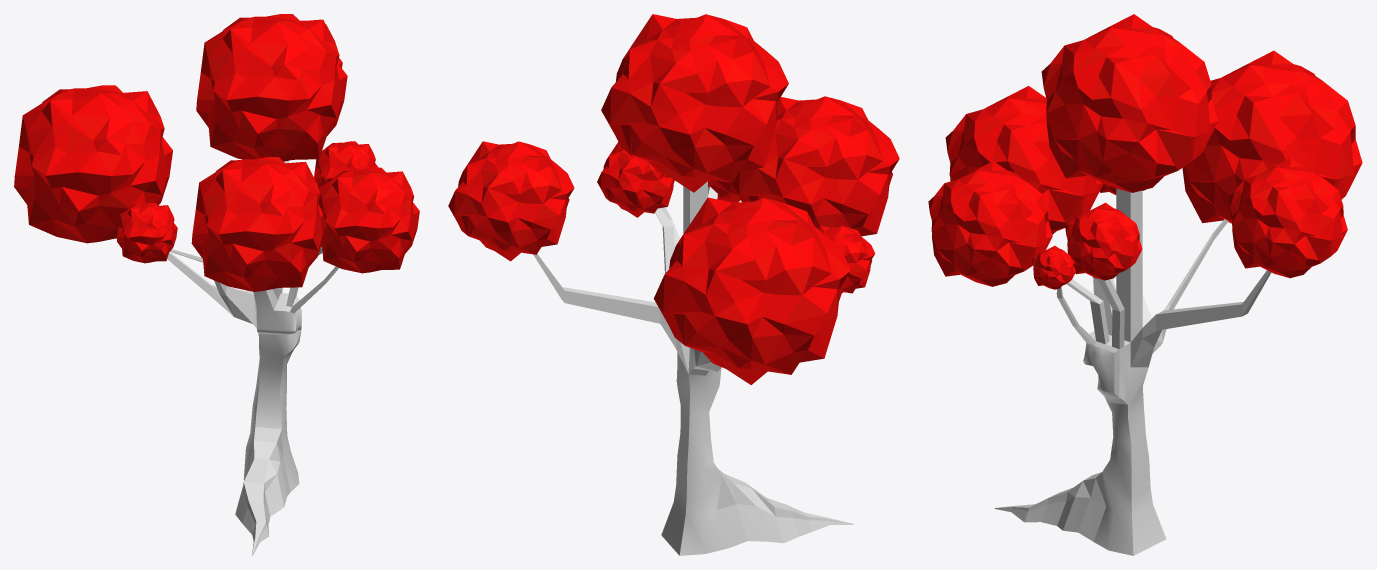
The model's file is Tree_Model_3.FBX.
3 renders of one model, left to right at view 1: azimuth 30°, elevation 25°; view 2: azimuth 150°, elevation 25°; view 3: azimuth 270°, elevation 25°, orthographic. The views are drawn at different scales.
Visible parts, largest first — view 1: GeoSphere094, GeoSphere088, GeoSphere089, Cylinder002, GeoSphere092, GeoSphere095, GeoSphere090; view 2: GeoSphere094, GeoSphere088, Cylinder002, GeoSphere089, GeoSphere093, GeoSphere090, GeoSphere095; view 3: GeoSphere088, Cylinder002, GeoSphere094, GeoSphere092, GeoSphere093, GeoSphere089, GeoSphere090, GeoSphere091.
Boxes of the visible parts, x1=… form: GeoSphere094: x1=14, y1=85, x2=172, y2=243; GeoSphere088: x1=196, y1=14, x2=347, y2=161; GeoSphere089: x1=191, y1=157, x2=322, y2=291; Cylinder002: x1=167, y1=160, x2=338, y2=555; GeoSphere092: x1=318, y1=167, x2=419, y2=273; GeoSphere095: x1=117, y1=203, x2=177, y2=263; GeoSphere090: x1=314, y1=141, x2=378, y2=188; GeoSphere094: x1=653, y1=197, x2=850, y2=384; GeoSphere088: x1=601, y1=14, x2=788, y2=192; Cylinder002: x1=533, y1=181, x2=853, y2=555; GeoSphere089: x1=731, y1=96, x2=899, y2=236; GeoSphere093: x1=448, y1=141, x2=574, y2=261; GeoSphere090: x1=597, y1=142, x2=674, y2=217; GeoSphere095: x1=818, y1=225, x2=875, y2=293; GeoSphere088: x1=1041, y1=14, x2=1218, y2=192; Cylinder002: x1=994, y1=188, x2=1271, y2=555; GeoSphere094: x1=1182, y1=50, x2=1362, y2=223; GeoSphere092: x1=928, y1=161, x2=1052, y2=286; GeoSphere093: x1=1229, y1=158, x2=1347, y2=278; GeoSphere089: x1=945, y1=86, x2=1103, y2=234; GeoSphere090: x1=1065, y1=202, x2=1142, y2=280; GeoSphere091: x1=1032, y1=245, x2=1075, y2=289.
Bounding box in the file's own units: 395 × 552 × 415.
